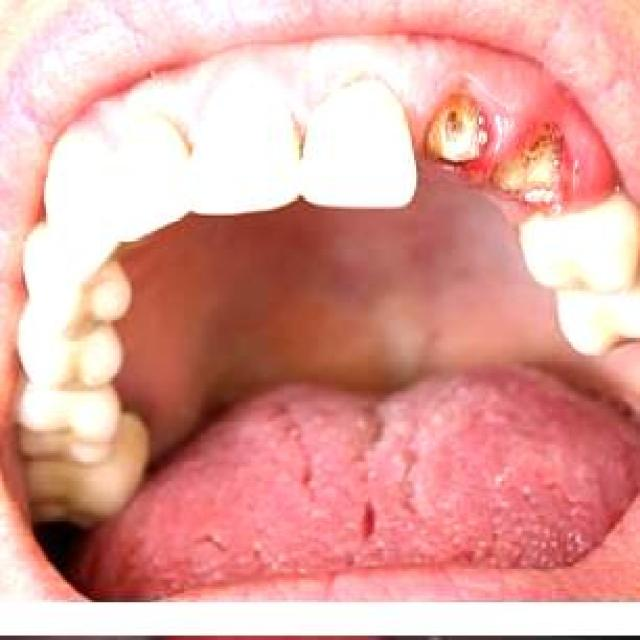caries: (418, 80, 492, 178), (503, 118, 572, 205)
